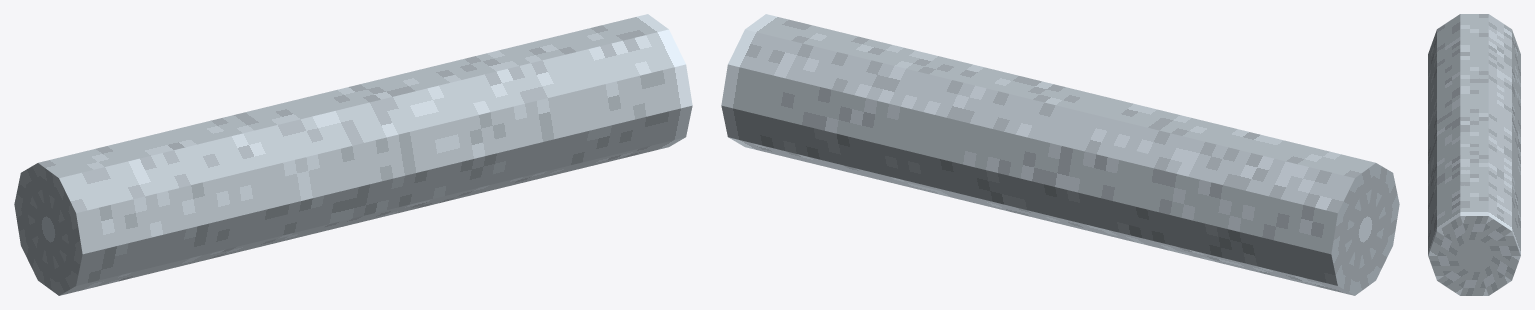
File: aluminum_bar_round.glb
3 renders of one model, left to right at view 1: azimuth 30°, elevation 25°; view 2: azimuth 150°, elevation 25°; view 3: azimuth 270°, elevation 25°, orthographic. The views are drawn at different scales.
Visible parts, largest first — view 1: block_round stock; view 2: block_round stock; view 3: block_round stock.
Boxes of the visible parts, bbox=[...] form: block_round stock: bbox=[14, 14, 692, 295]; block_round stock: bbox=[721, 14, 1399, 295]; block_round stock: bbox=[1428, 14, 1520, 295].
Size of the model in its own units: 0.05 by 0.00922 by 0.00969.
Materials: 1 (1 with a texture image).
